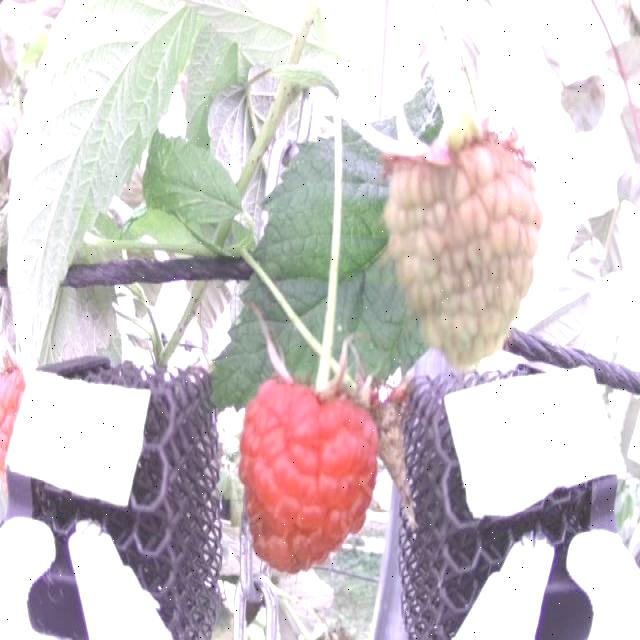Riped berries: (236, 374, 381, 574), (0, 343, 27, 483)
